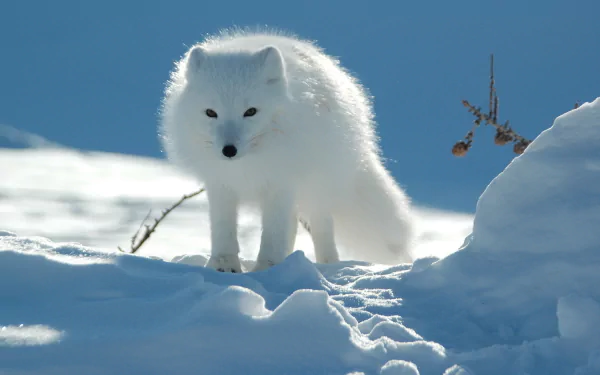arcticfox: (193, 79, 281, 184)
